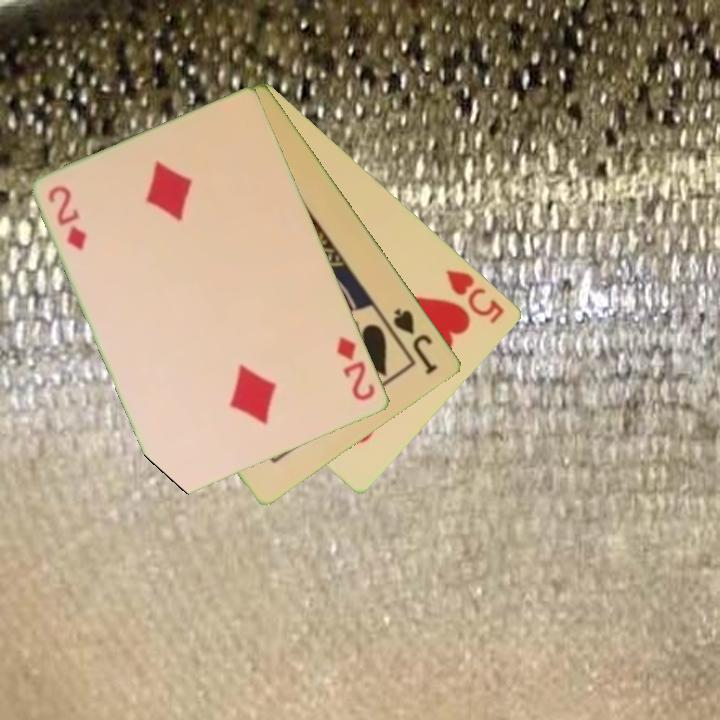2d: (333, 333, 379, 404), (45, 182, 90, 253)
5h: (442, 266, 508, 327)
Js: (390, 304, 441, 378)
